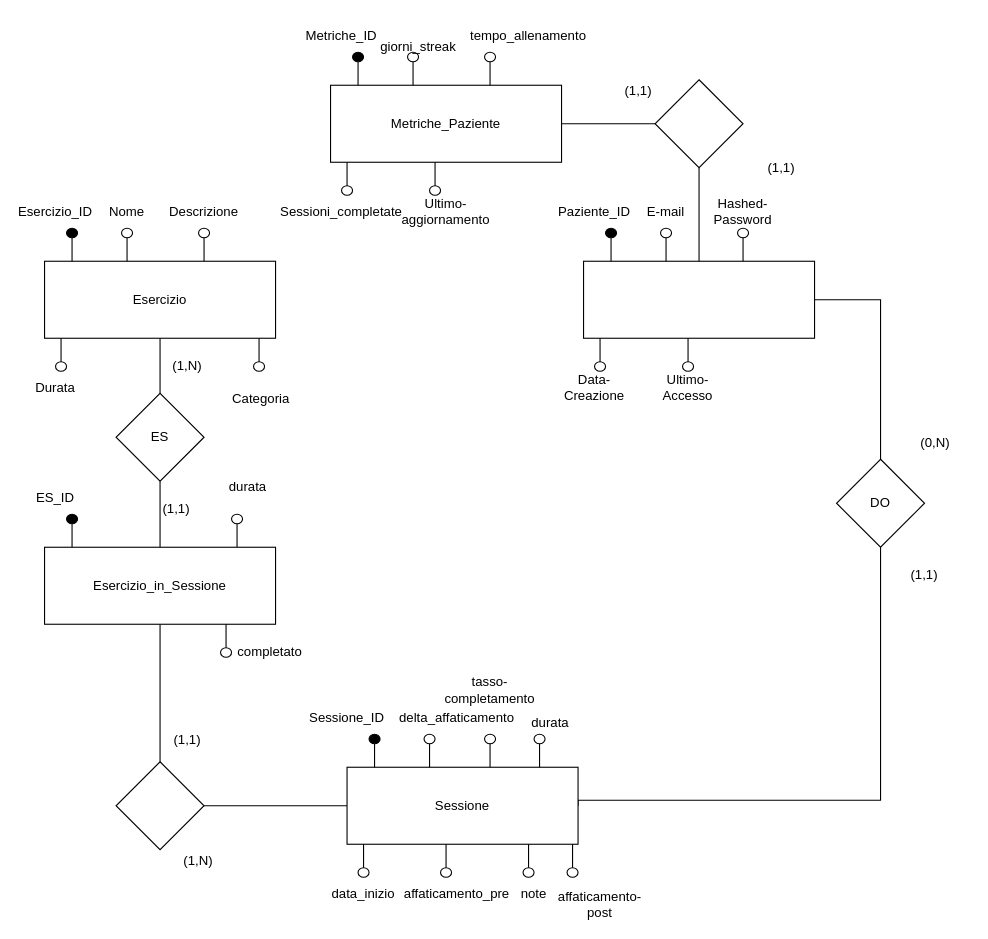
Image size: 988x939. Some labels were removed from this diagram. Each missing label, with the box of its shape:
ESS: (115, 761, 204, 850)
MP: (654, 79, 743, 168)
Paziente: (582, 260, 815, 338)
